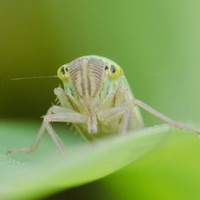insect: (8, 55, 199, 156)
